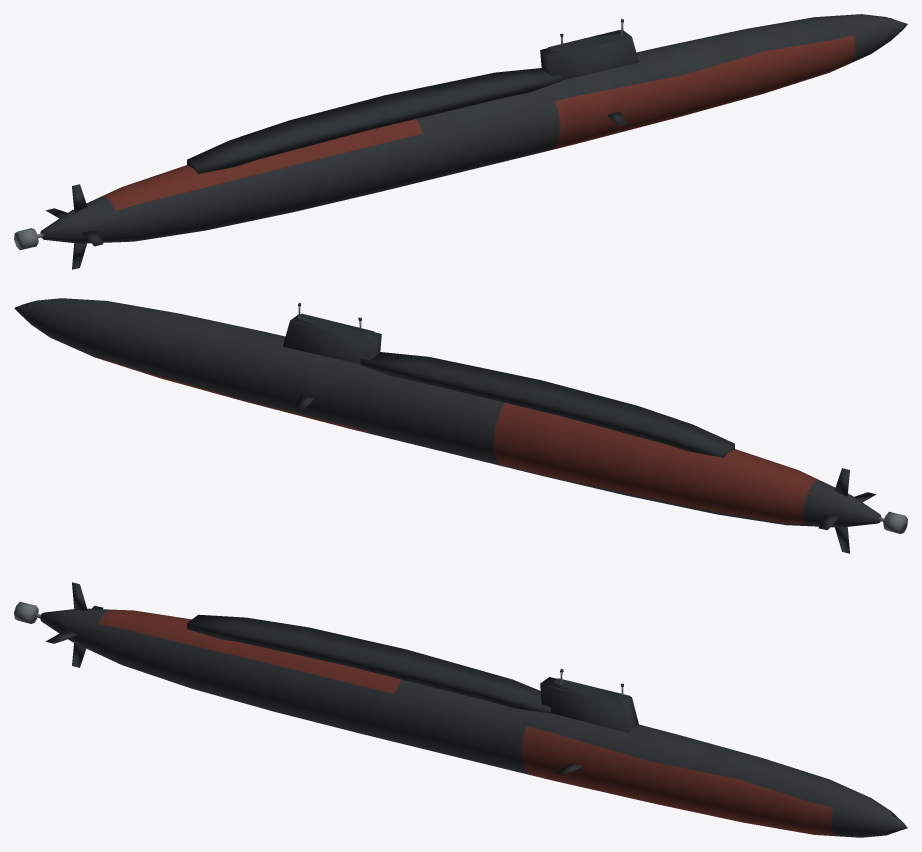
The model's file is US_SSBN_Columbia_LOD3.fbx.
3 views of the same model, one above another, from view 1: azimuth 30°, elevation 25°; view 2: azimuth 150°, elevation 25°; view 3: azimuth 330°, elevation 25° (orthographic).
Visible parts, largest first — view 1: US_SSBN_Columbia_LOD3; view 2: US_SSBN_Columbia_LOD3; view 3: US_SSBN_Columbia_LOD3.
Part boxes in pixels (x1=…): US_SSBN_Columbia_LOD3: x1=14, y1=14, x2=907, y2=269; US_SSBN_Columbia_LOD3: x1=14, y1=298, x2=907, y2=553; US_SSBN_Columbia_LOD3: x1=14, y1=582, x2=907, y2=837.
Size of the model in its own units: 176 by 21.96 by 21.94.
Materials: 6 (1 with a texture image).
